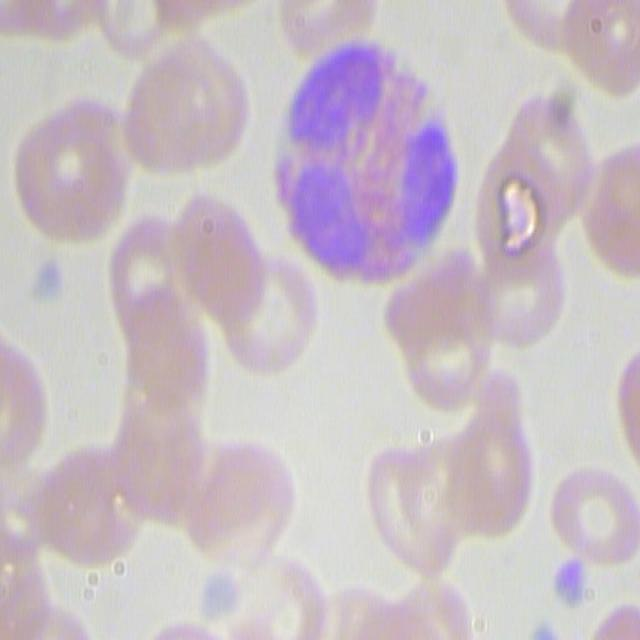RBC: (476, 97, 576, 366), (122, 23, 255, 181), (389, 250, 498, 430), (438, 359, 534, 546), (12, 93, 129, 246), (22, 450, 141, 569), (362, 438, 466, 573), (103, 210, 208, 342), (215, 261, 320, 381), (193, 436, 293, 555), (123, 336, 214, 459), (224, 535, 322, 640), (325, 575, 482, 640), (575, 144, 640, 288), (551, 465, 640, 568), (5, 531, 86, 640), (563, 0, 640, 97), (0, 327, 54, 463), (89, 0, 178, 66), (503, 0, 595, 47)
WBC: (275, 52, 462, 278)
platelets: (192, 558, 246, 633), (550, 554, 594, 613), (28, 257, 68, 309)
